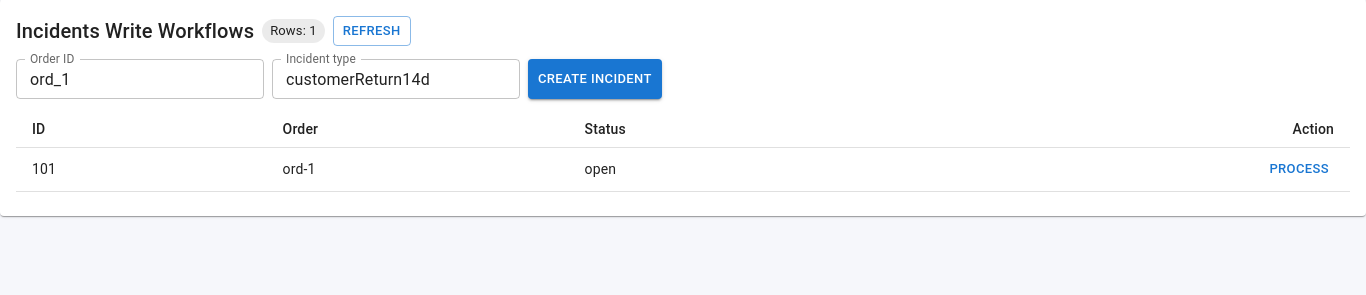
Test: IncidentsWorkflowPanel › keeps row and shows error when process fails
Expected: the text "ord-1" is shown, [267,148,569,191]
What coordinates should you click on to do the following:
click the button "Process"
I would click on:
 (1299, 169)
Its box is [1264,154,1334,185].
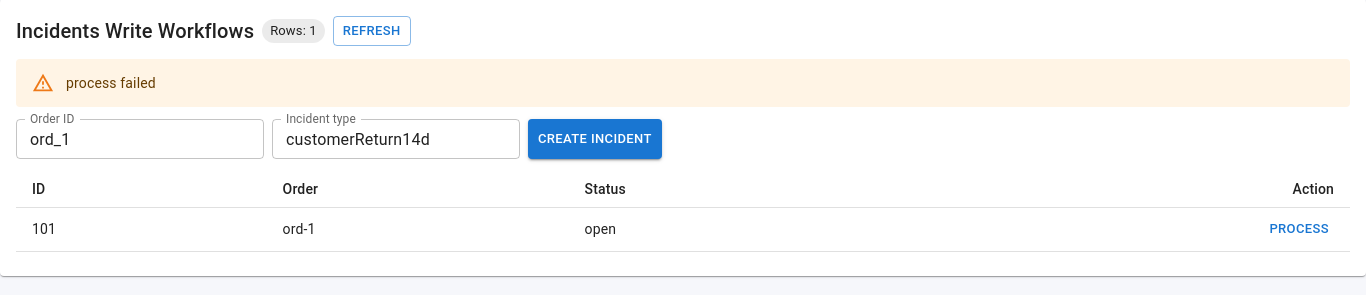
Expected: the text "ord-1" is shown, [267,208,569,251]
Expected: the text "process failed" is shown, [66,75,156,91]
